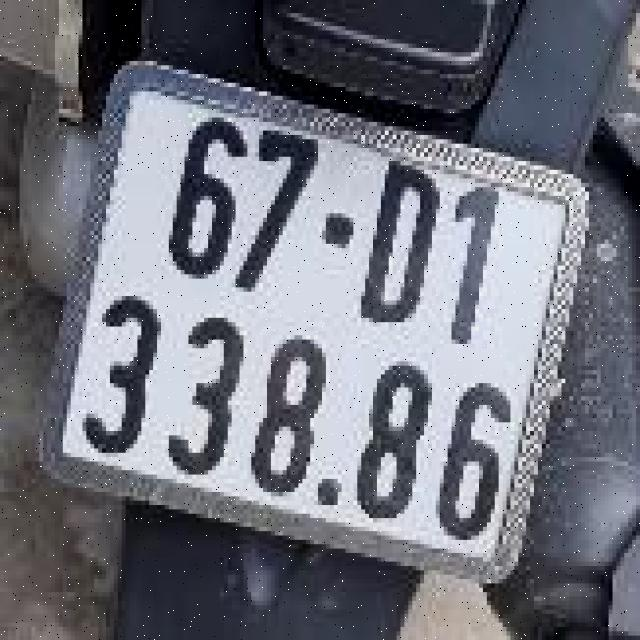1: (434, 178, 519, 359)
3: (67, 288, 175, 468), (156, 303, 260, 486)
6: (159, 105, 260, 294), (426, 363, 527, 551)
7: (223, 112, 334, 307)
8: (236, 323, 345, 504), (347, 348, 450, 528)
D: (345, 151, 460, 345)
